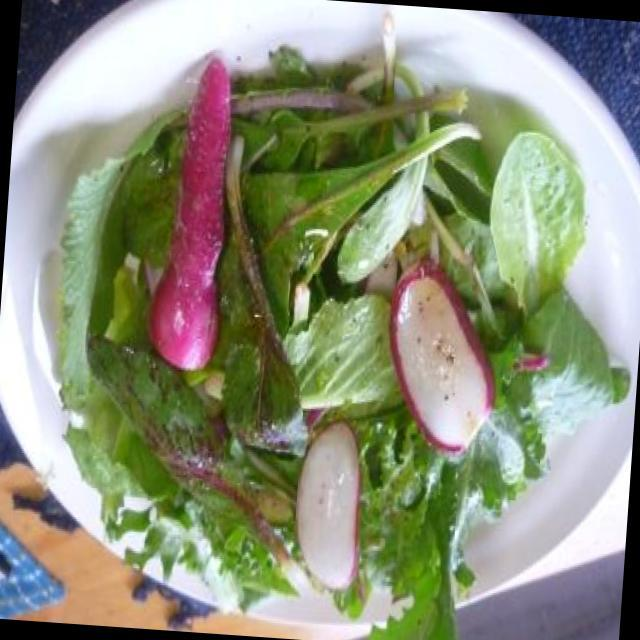Green Salad: (51, 103, 566, 579)
